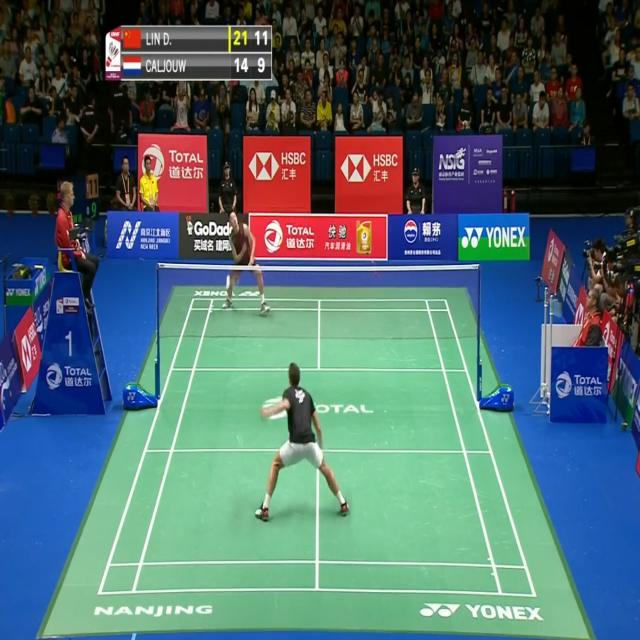Player1: (252, 358, 354, 526)
Player2: (221, 205, 273, 318)
